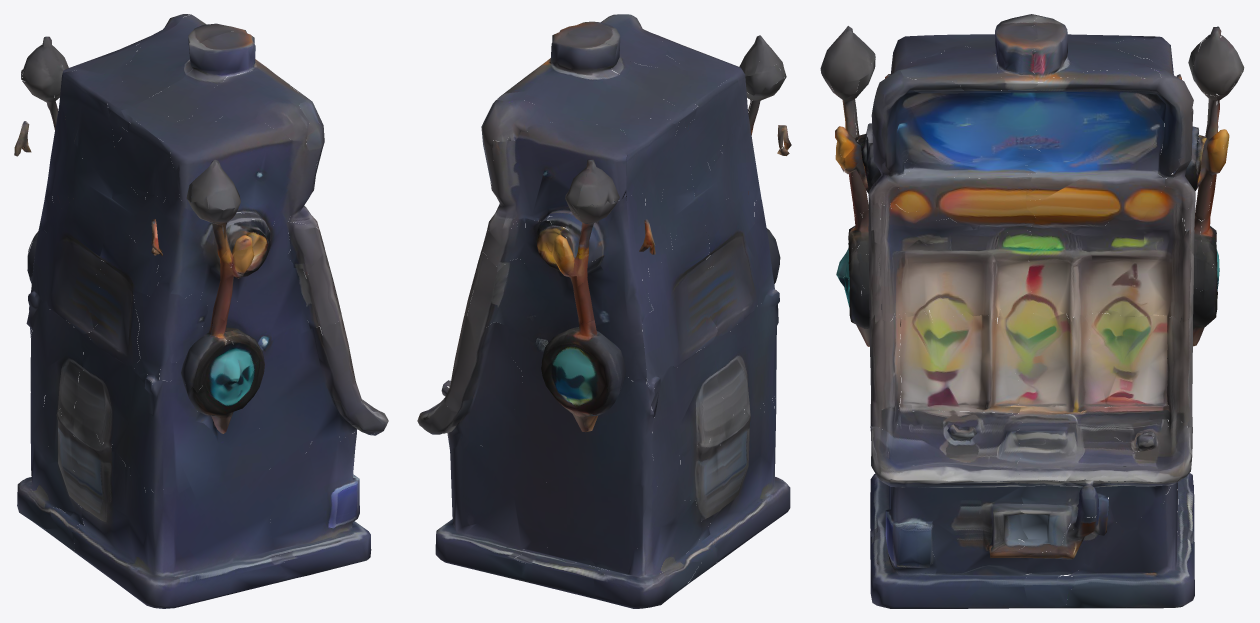
File: prop_alien_slot_machine.glb
3 views of the same model, side by side, from view 1: azimuth 30°, elevation 25°; view 2: azimuth 150°, elevation 25°; view 3: azimuth 270°, elevation 25° (orthographic). The views are drawn at different scales.
Parts seen in each view (by area): view 1: tripo_node_3cef282c-539e-44b1-bf82-f027772c85c3; view 2: tripo_node_3cef282c-539e-44b1-bf82-f027772c85c3; view 3: tripo_node_3cef282c-539e-44b1-bf82-f027772c85c3.
Boxes of the visible parts, x1,y1,x2,y2 form: tripo_node_3cef282c-539e-44b1-bf82-f027772c85c3: (14, 14, 388, 608); tripo_node_3cef282c-539e-44b1-bf82-f027772c85c3: (417, 14, 791, 608); tripo_node_3cef282c-539e-44b1-bf82-f027772c85c3: (820, 14, 1244, 608).
Bounding box in the file's own units: 0.5393 × 0.9957 × 0.7144.
1 material, 1 textured.
